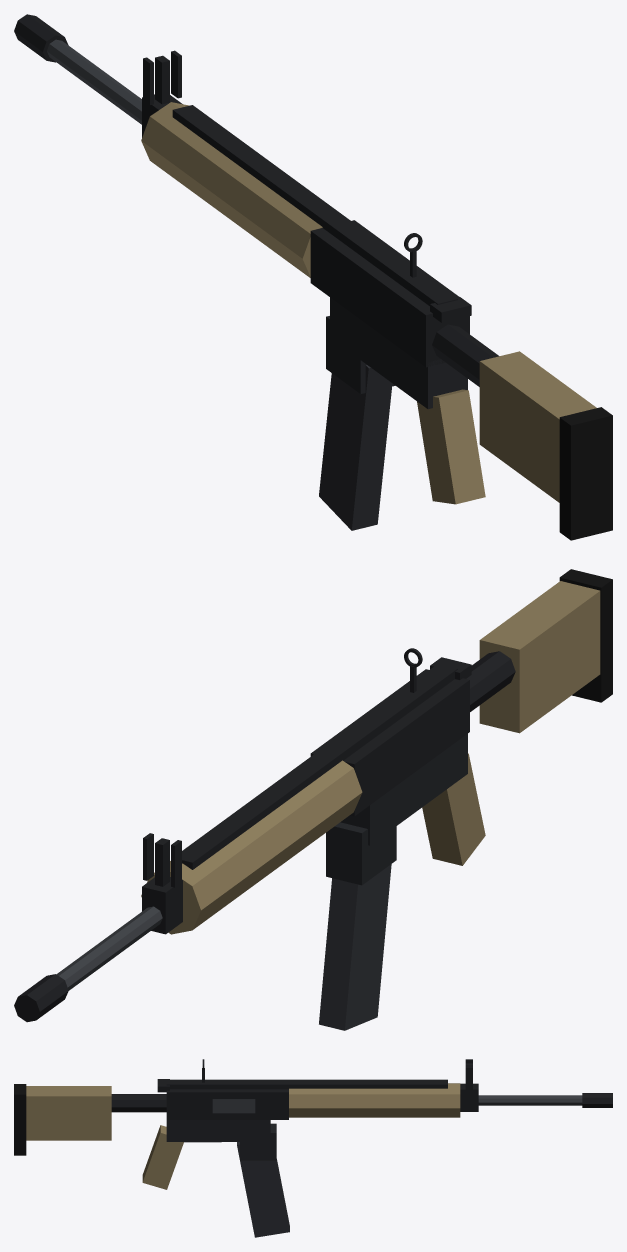
File: rifle.glb
3 renders of one model, top to bottom at view 1: azimuth 30°, elevation 25°; view 2: azimuth 150°, elevation 25°; view 3: azimuth 270°, elevation 25°, orthographic. The views are drawn at different scales.
Parts seen in each view (by area): view 1: rifle; view 2: rifle; view 3: rifle.
Part boxes in pixels (<box>): rifle: <box>14,14,612,540</box>; rifle: <box>14,569,612,1030</box>; rifle: <box>14,1059,612,1237</box>.
Bounding box in the file's own units: 0.06 × 0.3152 × 0.98.
